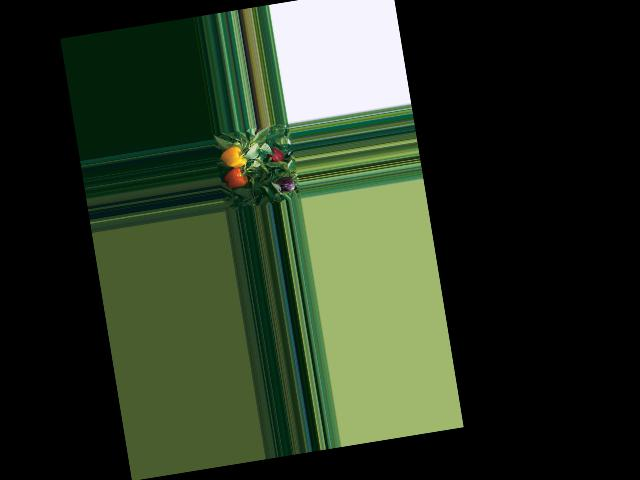bell_pepper: (220, 144, 249, 174)
